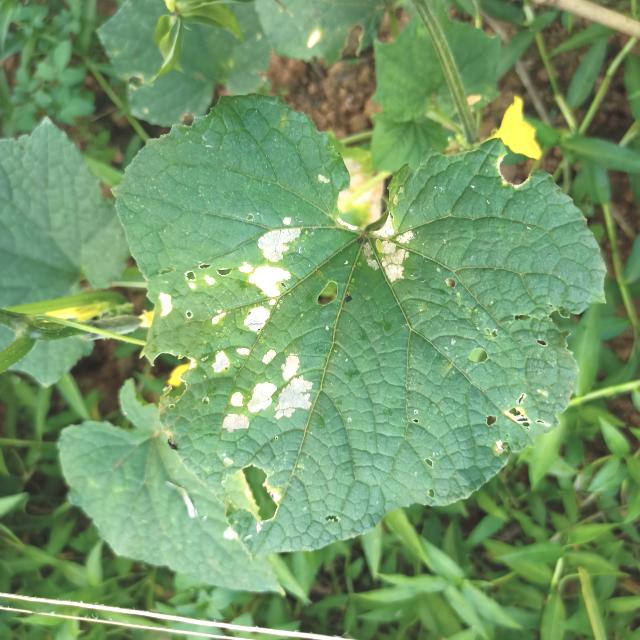disease_cucumber: (193, 209, 320, 456), (348, 208, 422, 296)
